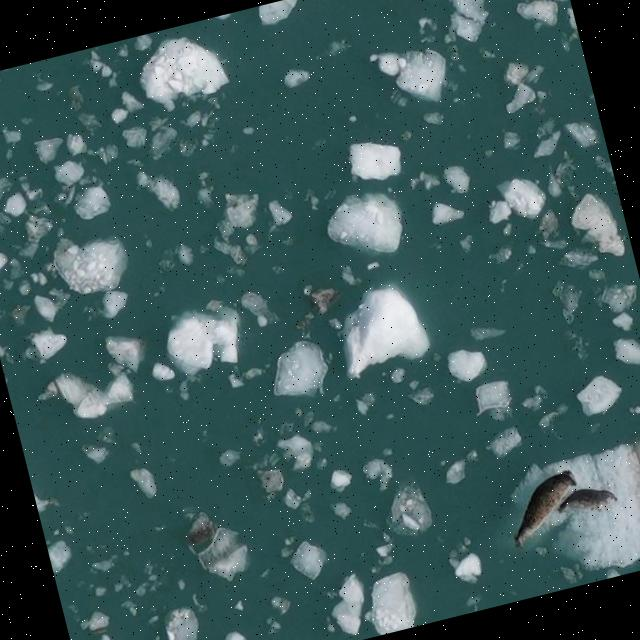seal: (498, 460, 580, 552), (559, 489, 616, 513)
